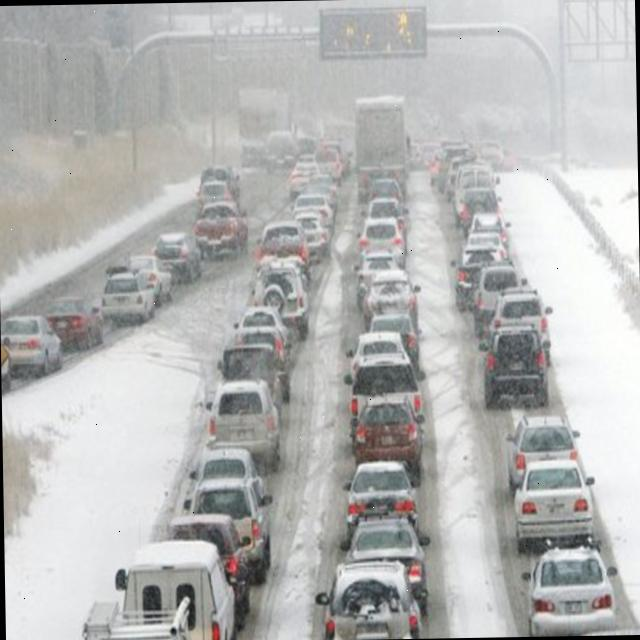bus: (355, 97, 409, 202)
car: (82, 530, 234, 640), (512, 456, 600, 556), (340, 528, 428, 622), (526, 548, 618, 636), (324, 560, 416, 640), (348, 356, 426, 449), (505, 435, 589, 519), (186, 492, 262, 578), (343, 459, 419, 542), (502, 414, 578, 494), (212, 380, 278, 468), (170, 514, 245, 587), (484, 325, 548, 408), (186, 451, 268, 512), (358, 400, 420, 473), (1, 316, 64, 377), (472, 262, 523, 334), (489, 290, 548, 352), (254, 266, 310, 328), (225, 344, 283, 398), (233, 306, 288, 362), (348, 332, 409, 381), (192, 207, 245, 262), (100, 272, 152, 328), (450, 248, 500, 306), (44, 300, 98, 352), (256, 220, 310, 272), (360, 271, 410, 327), (368, 314, 418, 364), (154, 232, 202, 284), (453, 165, 495, 222), (358, 218, 406, 267), (461, 232, 509, 274), (455, 186, 499, 231), (129, 258, 174, 302), (195, 172, 238, 212), (284, 162, 322, 198), (446, 156, 475, 202), (466, 214, 511, 243), (264, 134, 296, 172), (297, 192, 335, 223), (300, 212, 329, 248), (314, 142, 342, 179), (437, 154, 456, 196)
